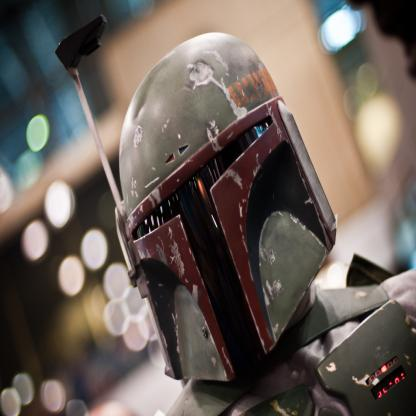Helmet: (103, 19, 342, 346)
